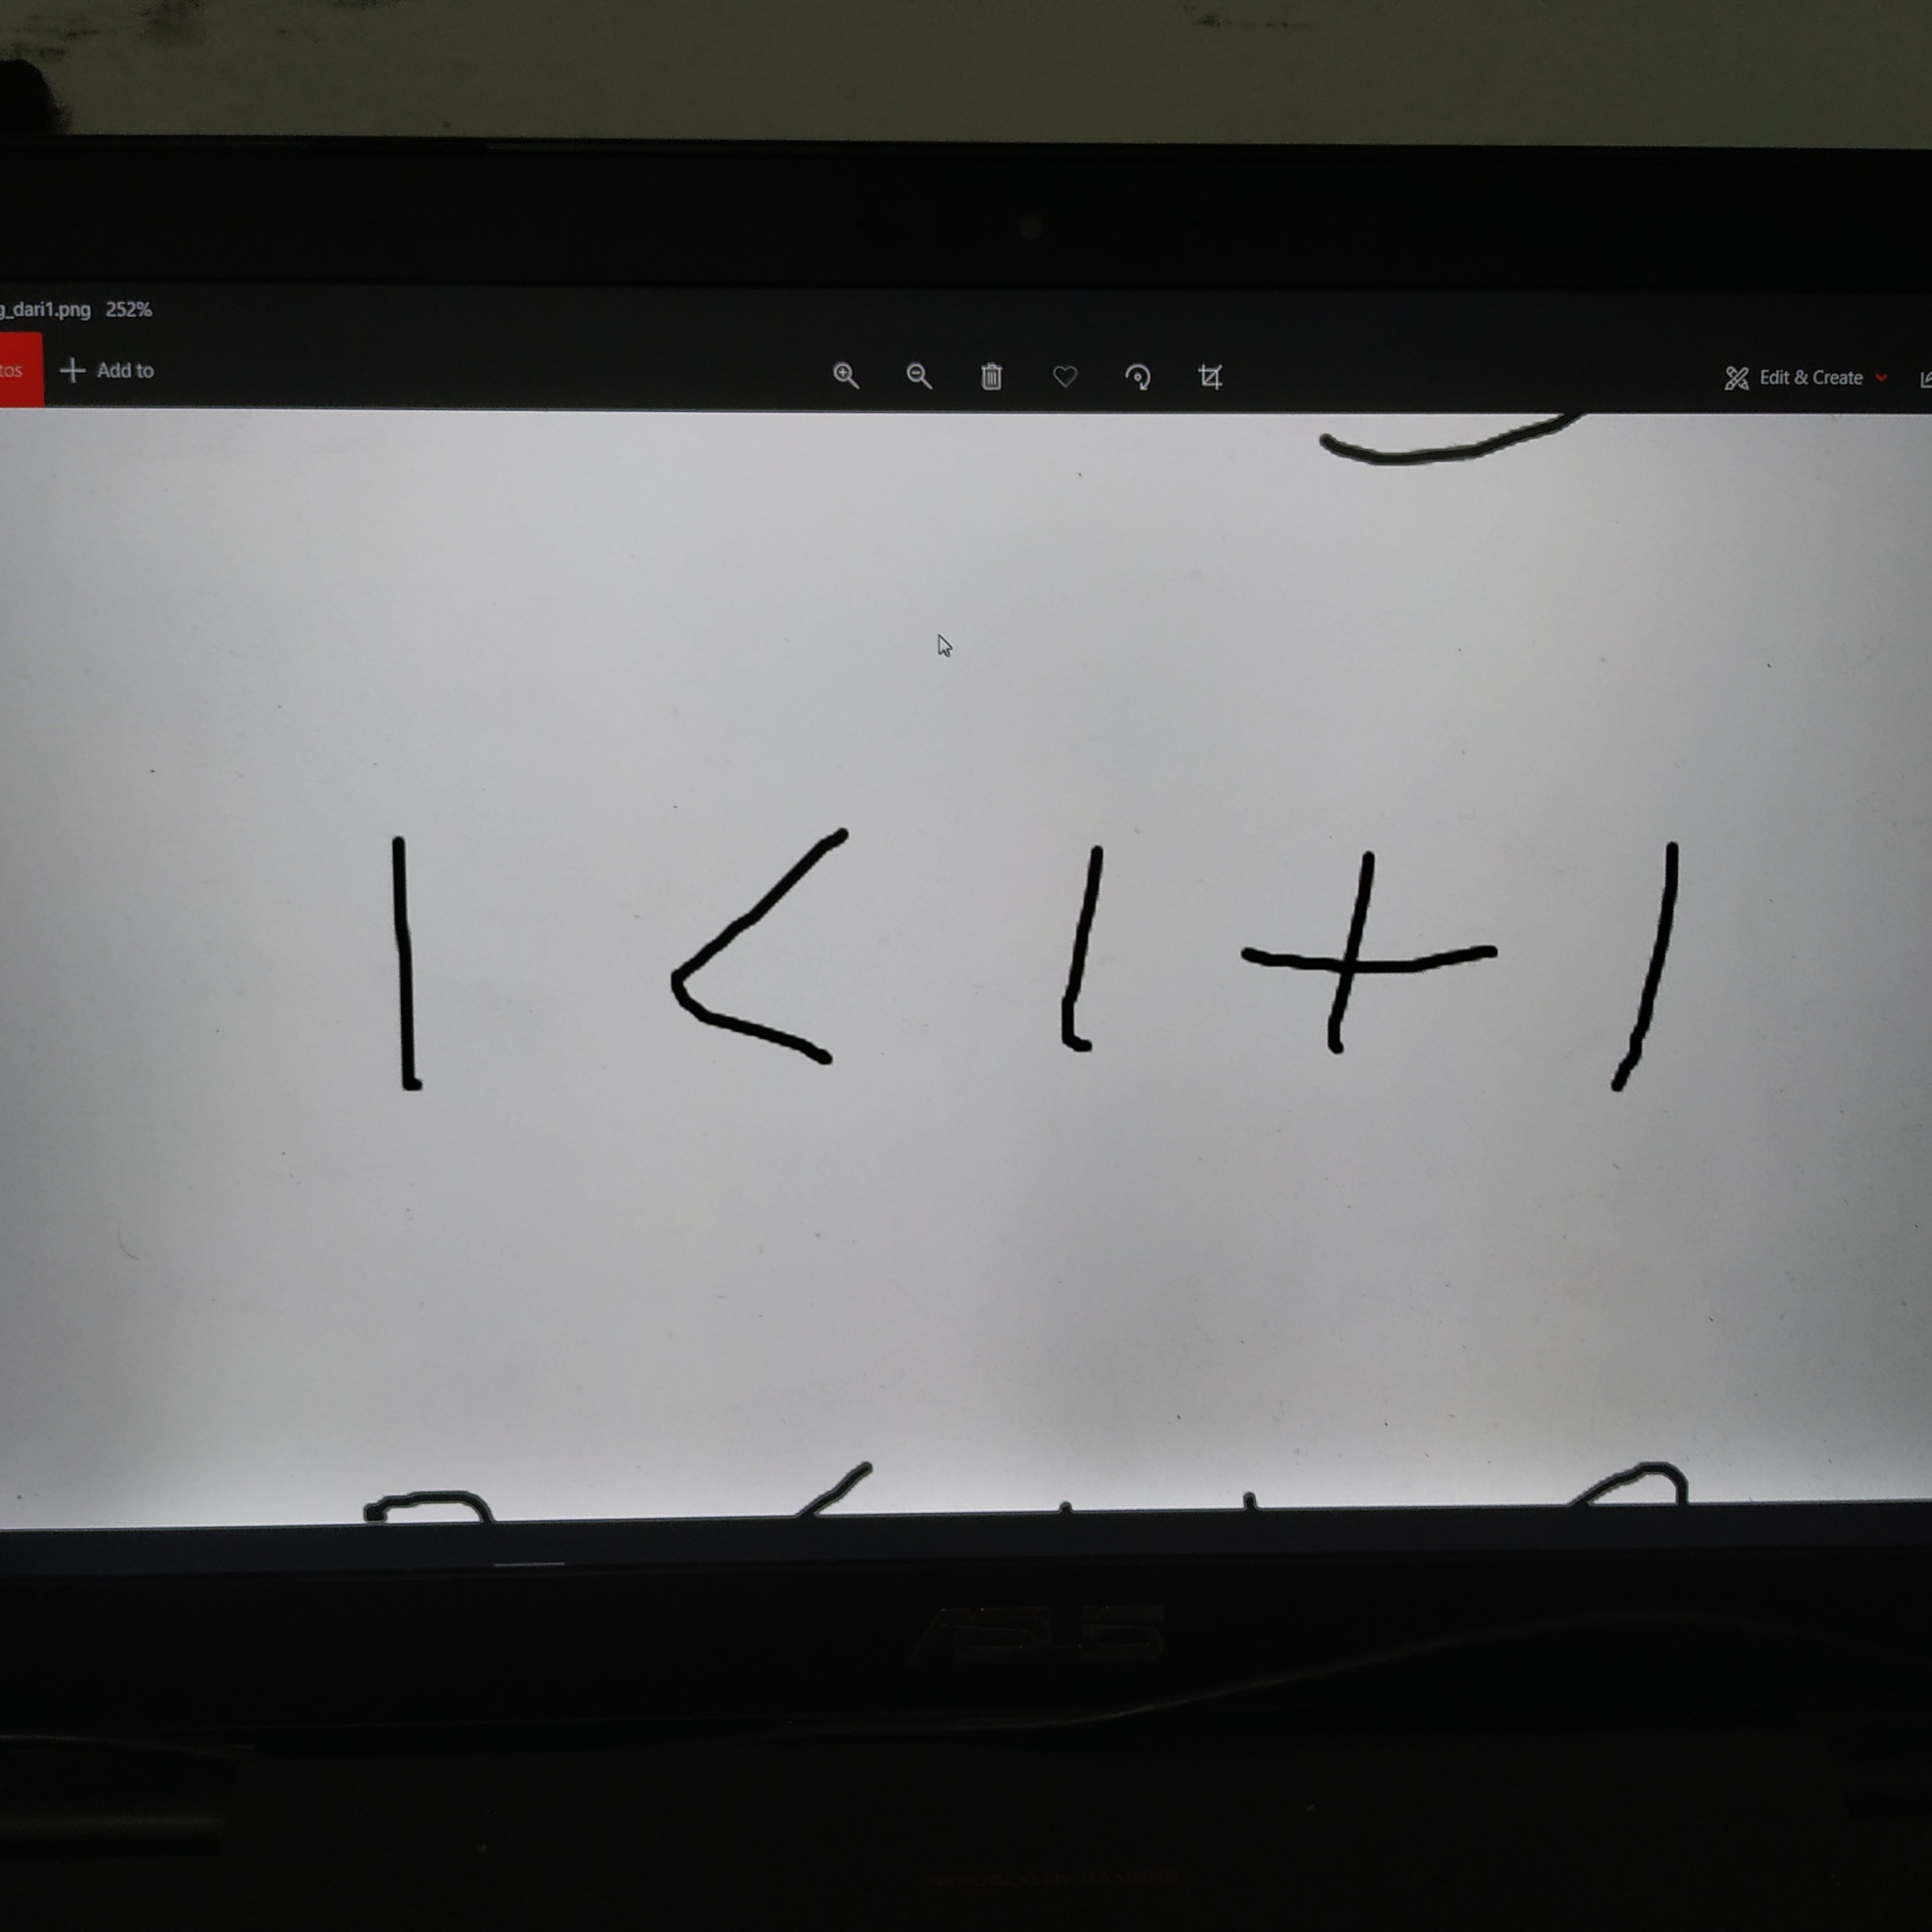lessthan: (664, 798, 879, 1098)
num1: (334, 808, 489, 1113), (1593, 835, 1704, 1100), (1029, 827, 1141, 1071)
sum: (1224, 831, 1537, 1079)
